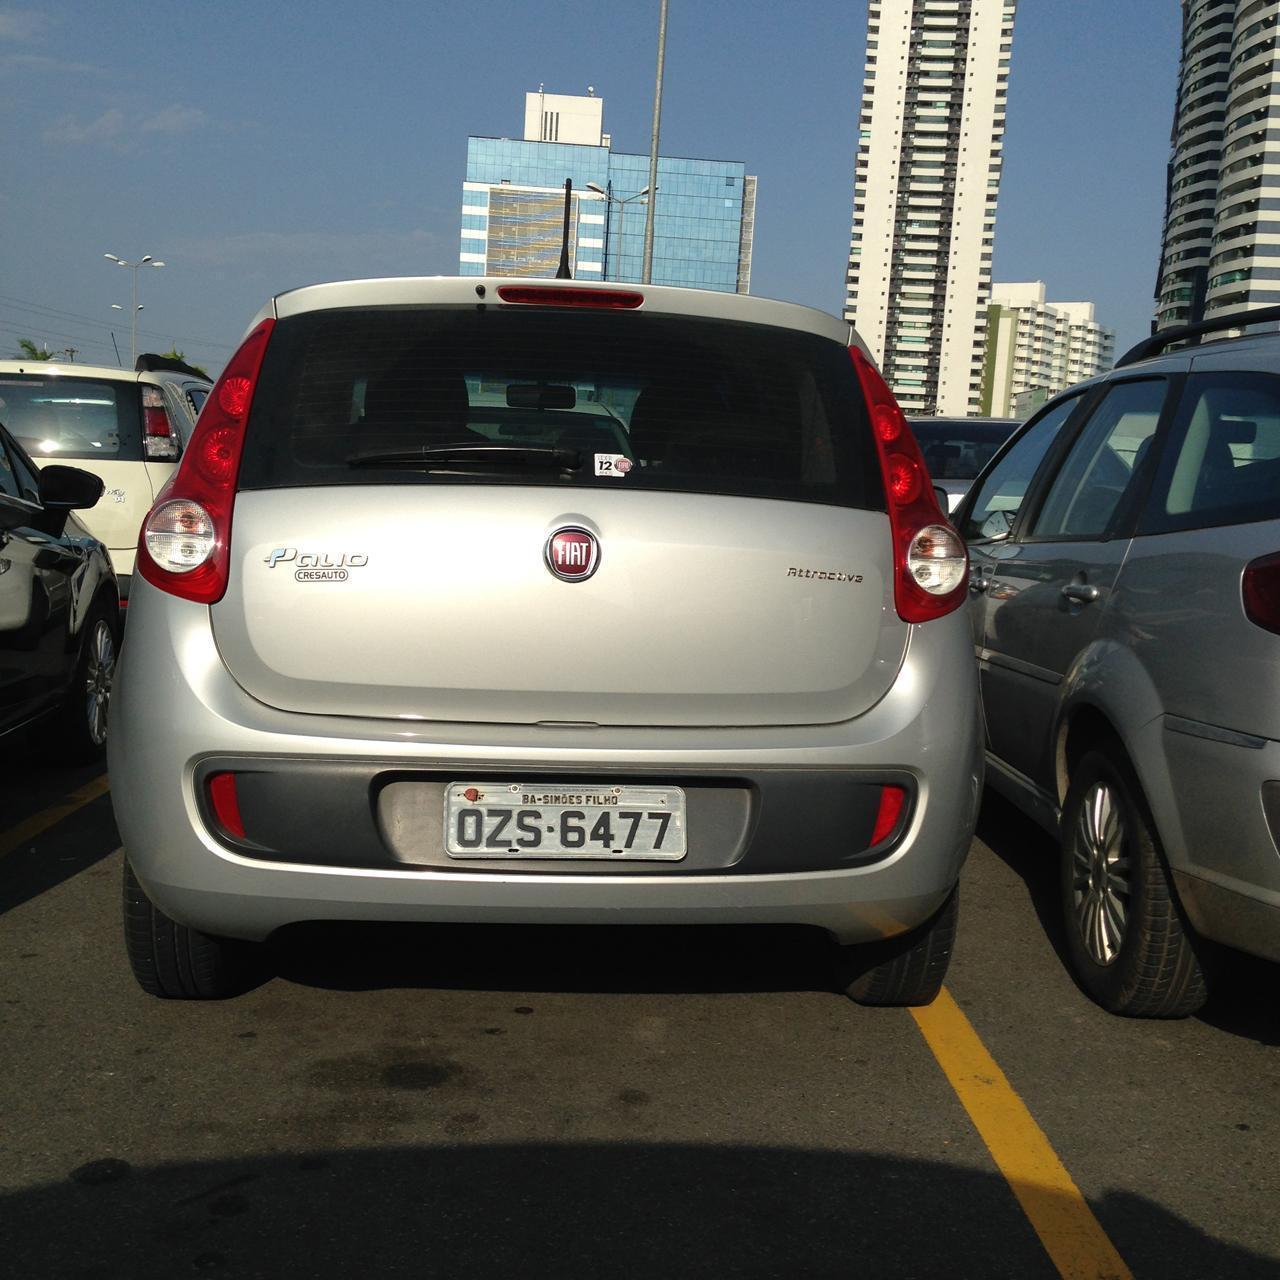placa de veiculo: (434, 763, 713, 892)
